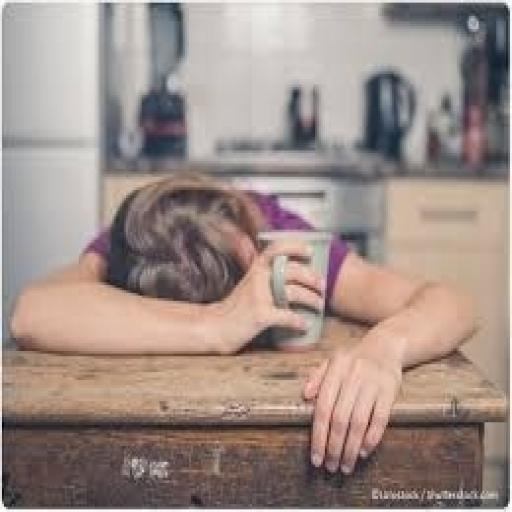sleeping: (10, 169, 478, 478)
